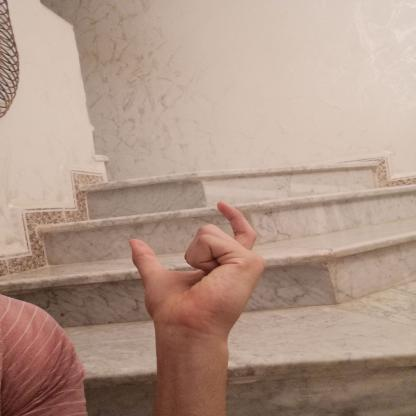NOON: (113, 187, 283, 347)
